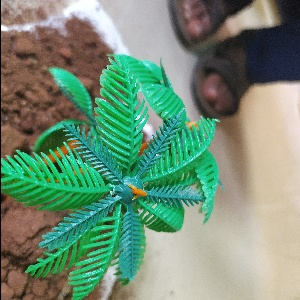plant: (13, 44, 206, 276)
